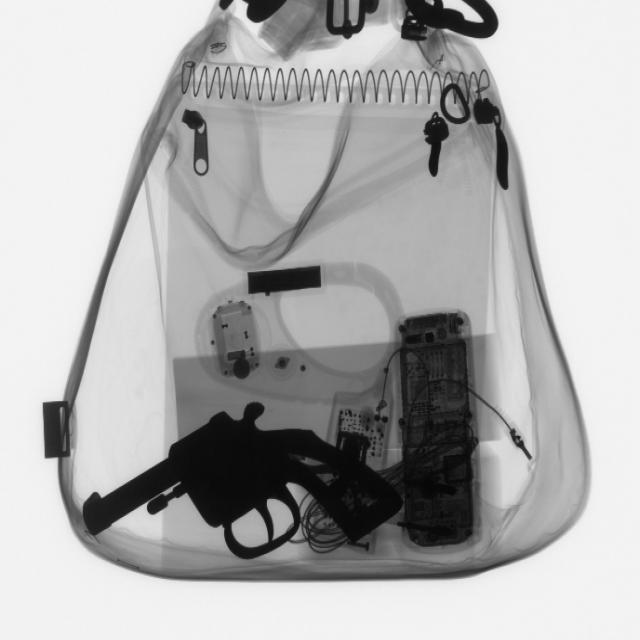GUN: (71, 395, 406, 574)
